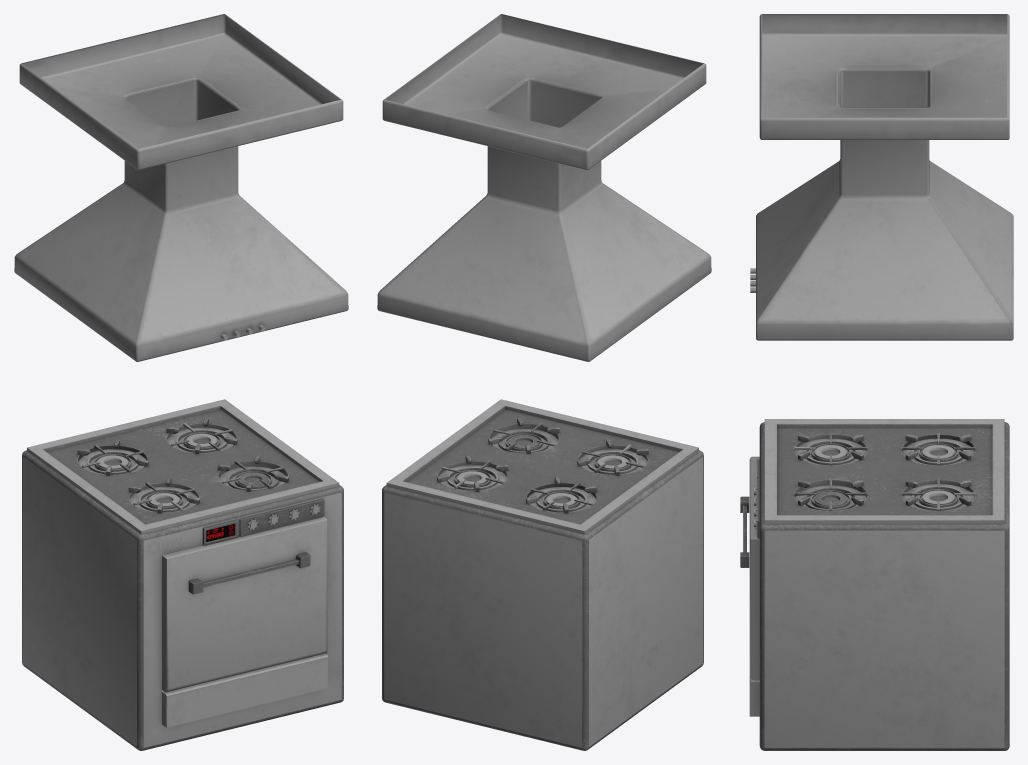
The model's file is oven.fbx.
3 views of the same model, side by side, from view 1: azimuth 30°, elevation 25°; view 2: azimuth 150°, elevation 25°; view 3: azimuth 270°, elevation 25° (orthographic). The views are drawn at different scales.
Parts seen in each view (by area): view 1: oven, kitchenhood; view 2: oven, kitchenhood; view 3: oven, kitchenhood.
Boxes of the visible parts, x1=… form: oven: x1=22, y1=399, x2=343, y2=750; kitchenhood: x1=14, y1=14, x2=348, y2=361; oven: x1=382, y1=399, x2=703, y2=750; kitchenhood: x1=377, y1=14, x2=711, y2=361; oven: x1=740, y1=419, x2=1009, y2=750; kitchenhood: x1=750, y1=14, x2=1013, y2=340.
Size of the model in its own units: 206 by 559 by 219.
